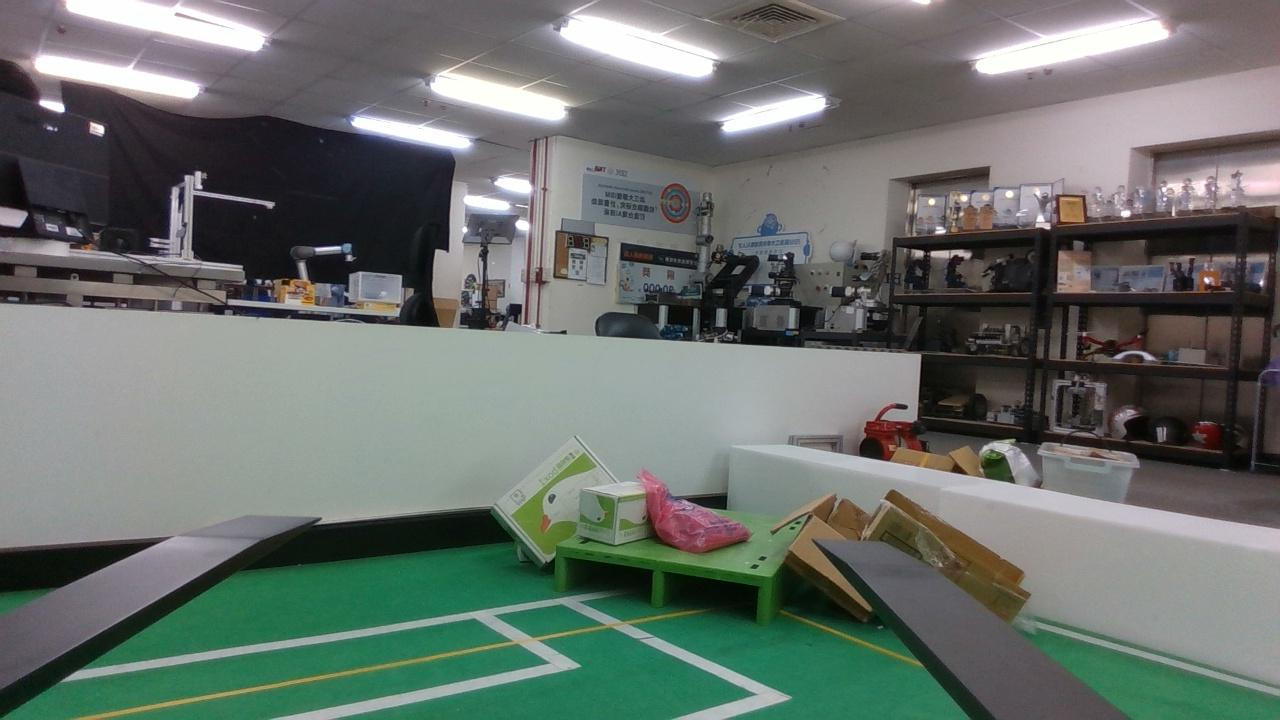Pallet: (555, 543, 770, 624)
